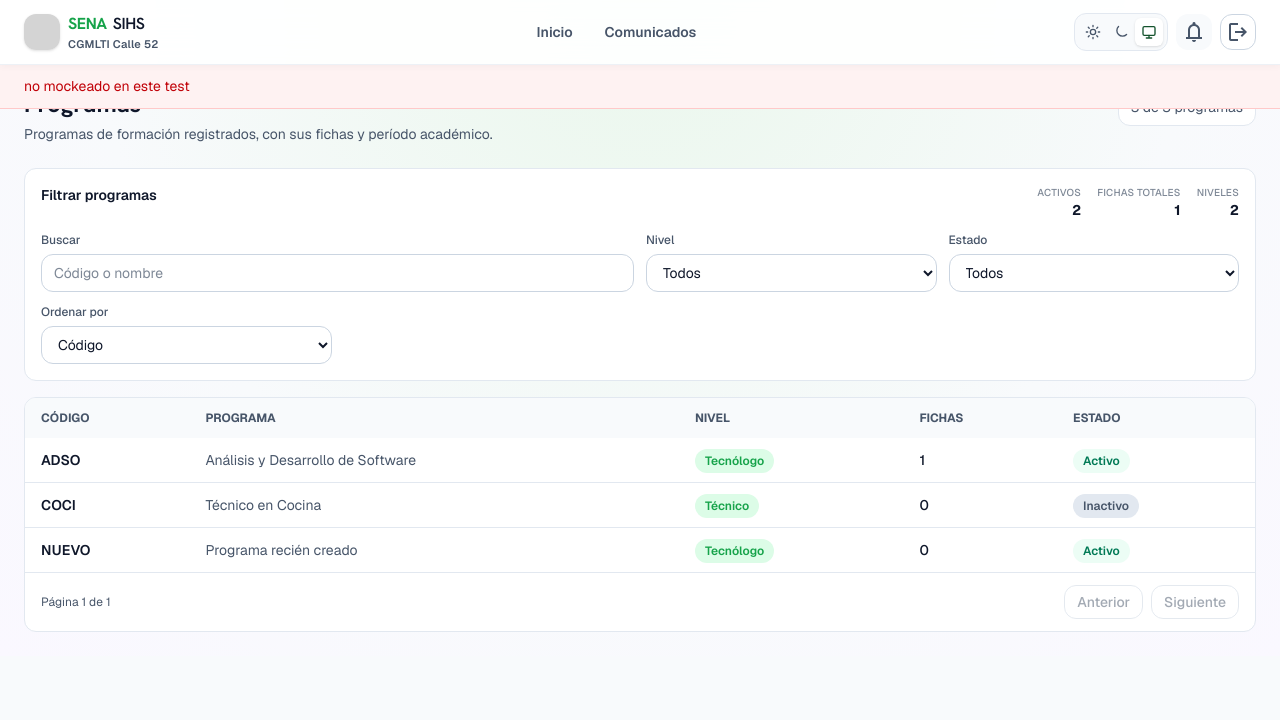
Programas › clic en una fila abre el drawer con las fichas asociadas
Click the text "ADSO" at (61, 460), box [25, 438, 189, 482]
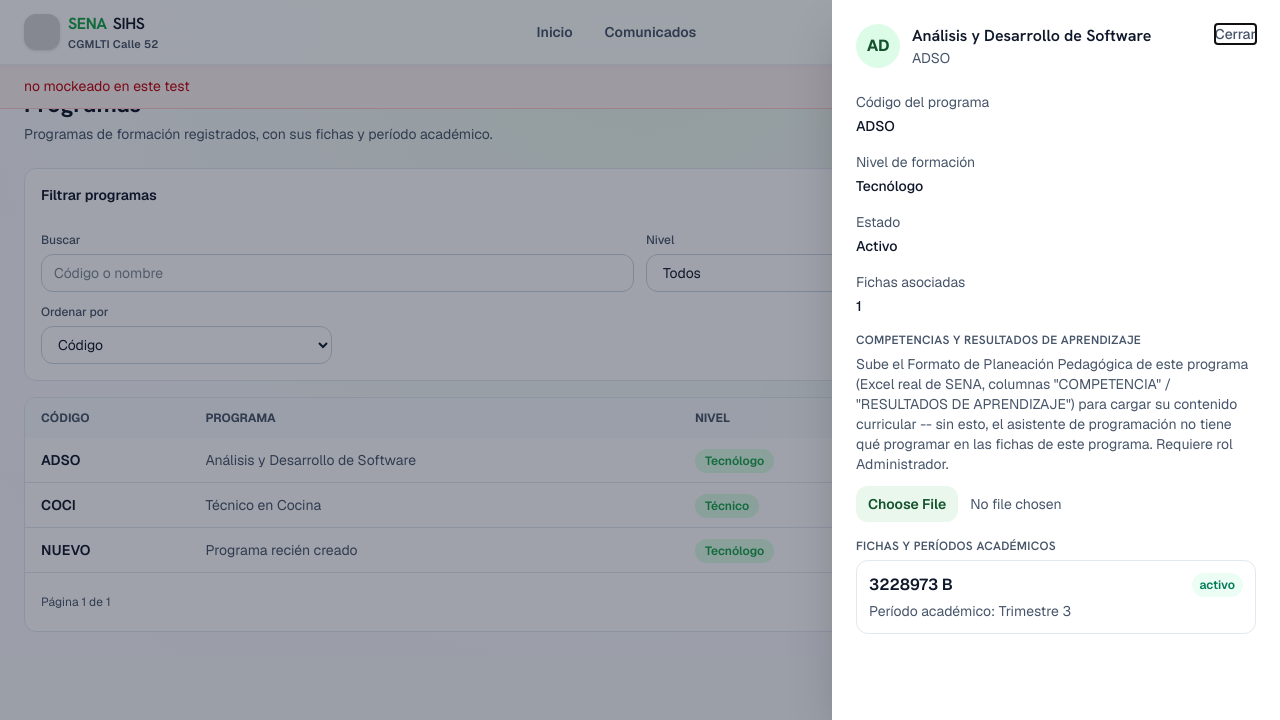
Result: the text "3228973 B" is shown at [869, 574, 953, 595]
Result: the text "Período académico: Trimestre 3" is shown at [869, 601, 1071, 621]
